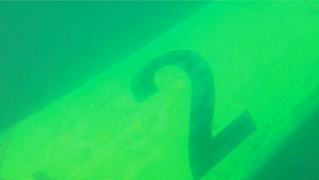2: (131, 49, 257, 179)
pipe: (1, 1, 318, 180)
